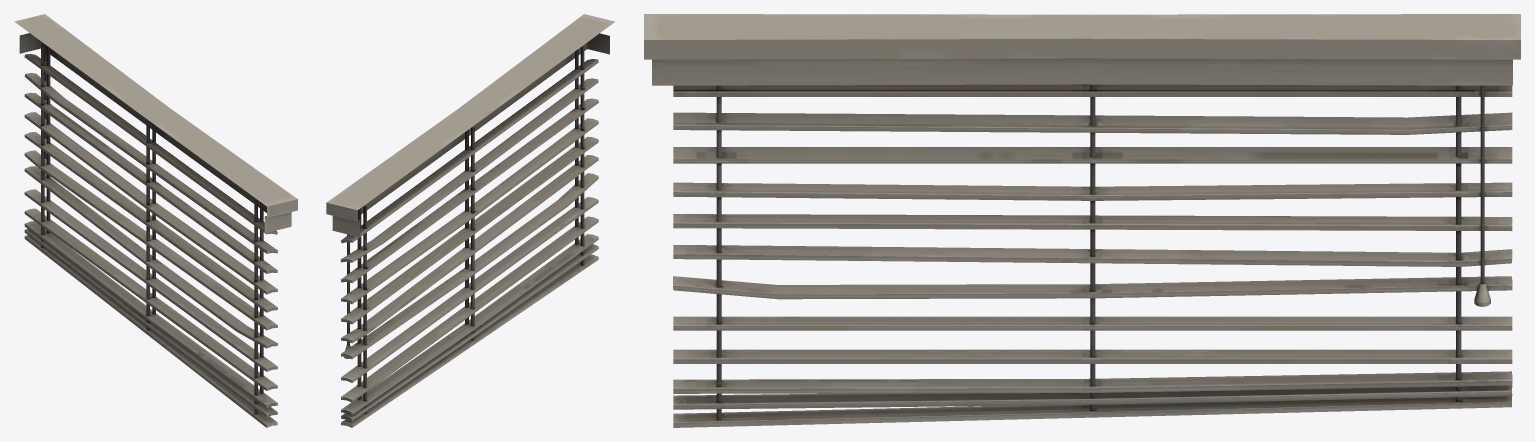
3 views of the same model, side by side, from view 1: azimuth 30°, elevation 25°; view 2: azimuth 150°, elevation 25°; view 3: azimuth 270°, elevation 25° (orthographic). The views are drawn at different scales.
Visible parts, largest first — view 1: body0_model0_lod0_mesh0; view 2: body0_model0_lod0_mesh0; view 3: body0_model0_lod0_mesh0.
Part boxes in pixels (x1,y1,x2,y2): body0_model0_lod0_mesh0: [14, 14, 297, 427]; body0_model0_lod0_mesh0: [326, 14, 614, 427]; body0_model0_lod0_mesh0: [644, 14, 1520, 427].
Bounding box in the file's own units: 13.22 × 93.95 × 188.
Materials: 1 (1 with a texture image).
